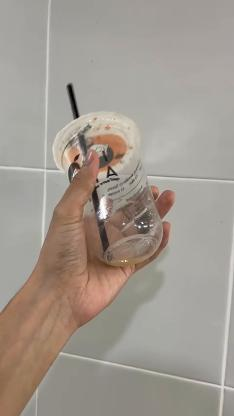Plastic Cup: (51, 110, 163, 266)
